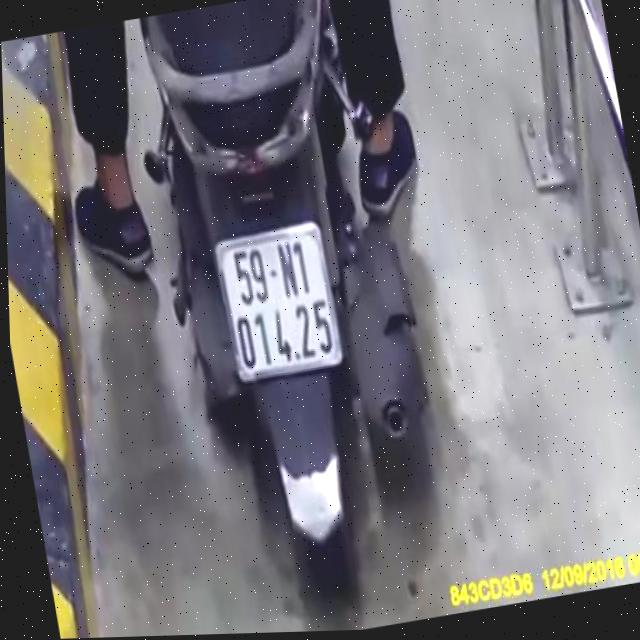motorcycle: (118, 0, 470, 637)
plate: (203, 209, 352, 387)
